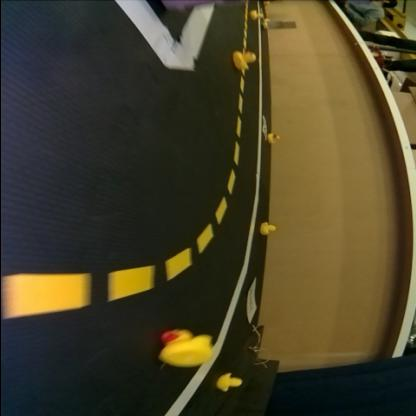Duckie: (158, 330, 212, 367), (233, 52, 257, 70), (218, 374, 242, 392), (260, 223, 276, 236), (249, 10, 261, 20), (269, 135, 277, 143)
QR code: (260, 116, 268, 139)
